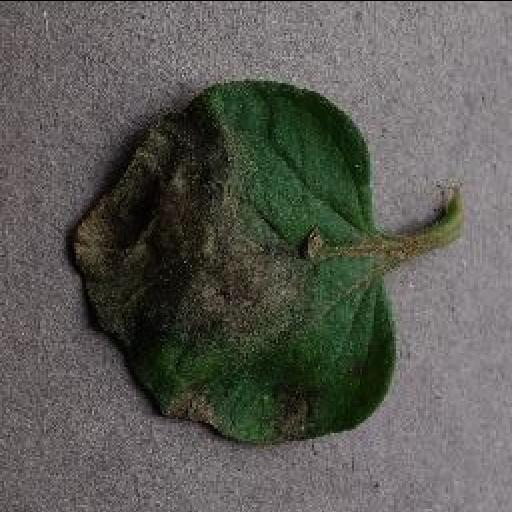disease_tomato: (59, 79, 401, 445)
